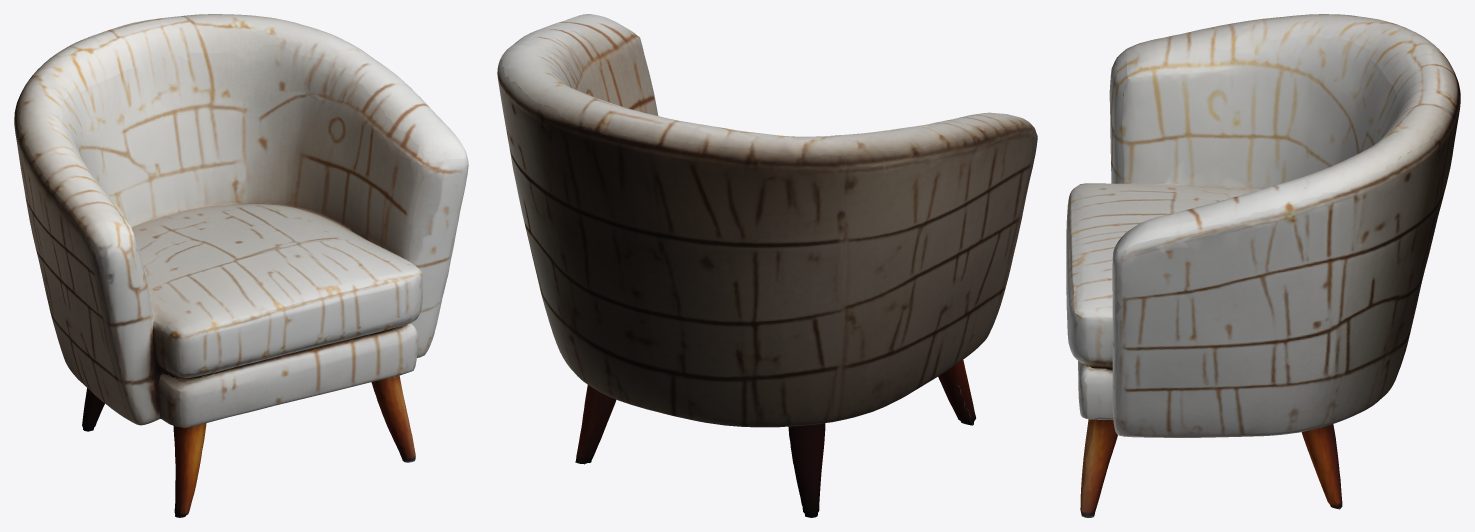
The model's file is chair.glb.
3 renders of one model, left to right at view 1: azimuth 30°, elevation 25°; view 2: azimuth 150°, elevation 25°; view 3: azimuth 270°, elevation 25°, orthographic. The views are drawn at different scales.
Visible parts, largest first — view 1: geometry_0 (×16); view 2: geometry_0 (×11); view 3: geometry_0 (×13).
Part boxes in pixels (left/top/right/bottom): geometry_0 (×16): left=14, top=14, right=468, bottom=517; geometry_0 (×11): left=497, top=14, right=1037, bottom=517; geometry_0 (×13): left=1066, top=14, right=1460, bottom=517.
Bounding box in the file's own units: 0.6638 × 0.584 × 0.551.
1 material, 1 textured.
